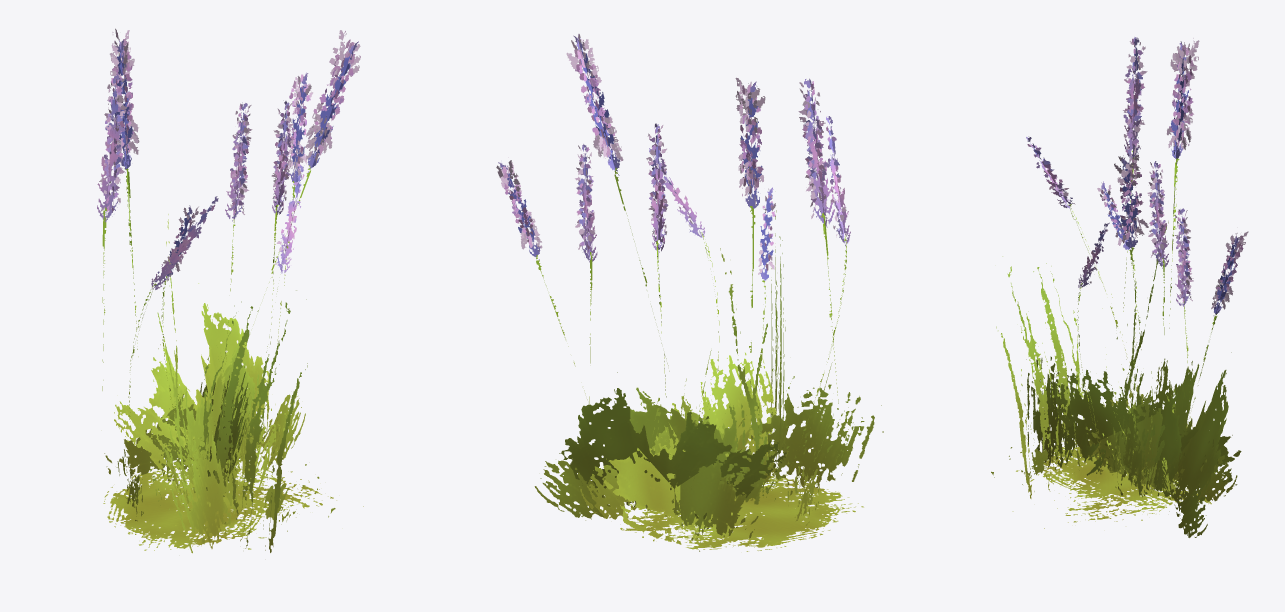
Rendered from grass43.fbx.
3 renders of one model, left to right at view 1: azimuth 30°, elevation 25°; view 2: azimuth 150°, elevation 25°; view 3: azimuth 270°, elevation 25°, orthographic. The views are drawn at different scales.
Parts seen in each view (by area): view 1: Lavander2_BAKED; view 2: Lavander2_BAKED; view 3: Lavander2_BAKED.
Part boxes in pixels (x1=…): Lavander2_BAKED: x1=97, y1=28, x2=363, y2=553; Lavander2_BAKED: x1=496, y1=34, x2=883, y2=551; Lavander2_BAKED: x1=991, y1=37, x2=1248, y2=537.
Size of the model in its own units: 46.47 by 51.77 by 81.41.
